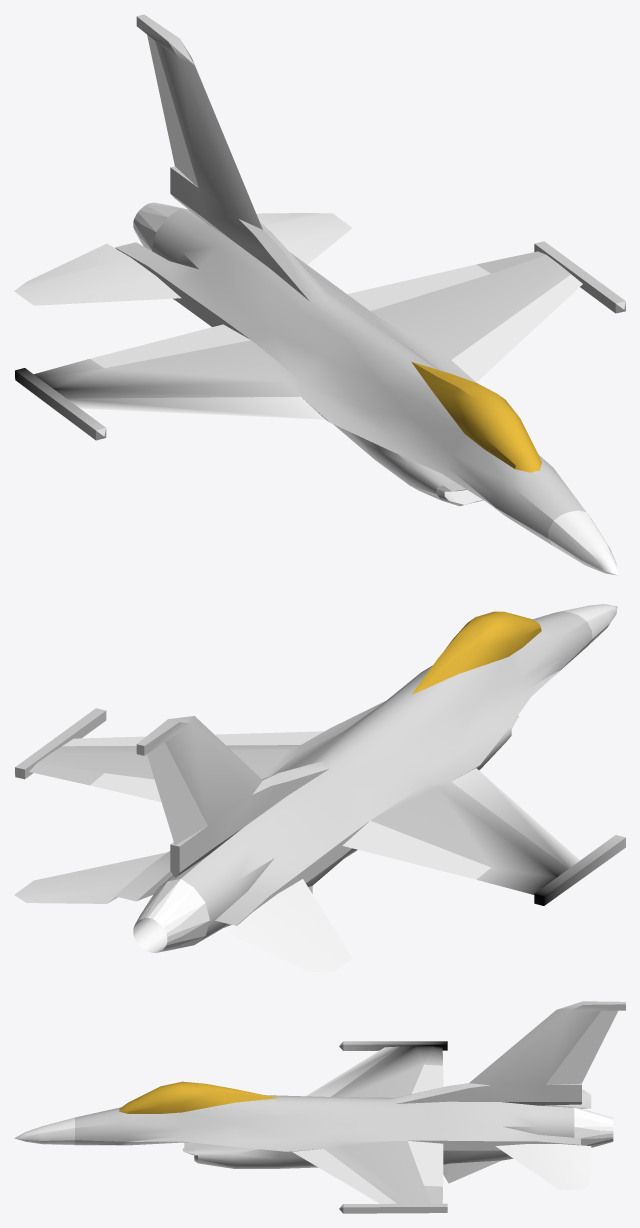
The picture shows the model from 3 angles, top to bottom: view 1: azimuth 30°, elevation 25°; view 2: azimuth 150°, elevation 25°; view 3: azimuth 270°, elevation 25°; orthographic projection. The views are drawn at different scales.
Parts seen in each view (by area): view 1: F-16Blend; view 2: F-16Blend; view 3: F-16Blend.
Part boxes in pixels (x1,y1,x2,y2): F-16Blend: [14, 14, 625, 575]; F-16Blend: [14, 604, 625, 972]; F-16Blend: [14, 1001, 625, 1213].
Bounding box in the file's own units: 951 × 1484 × 454.
